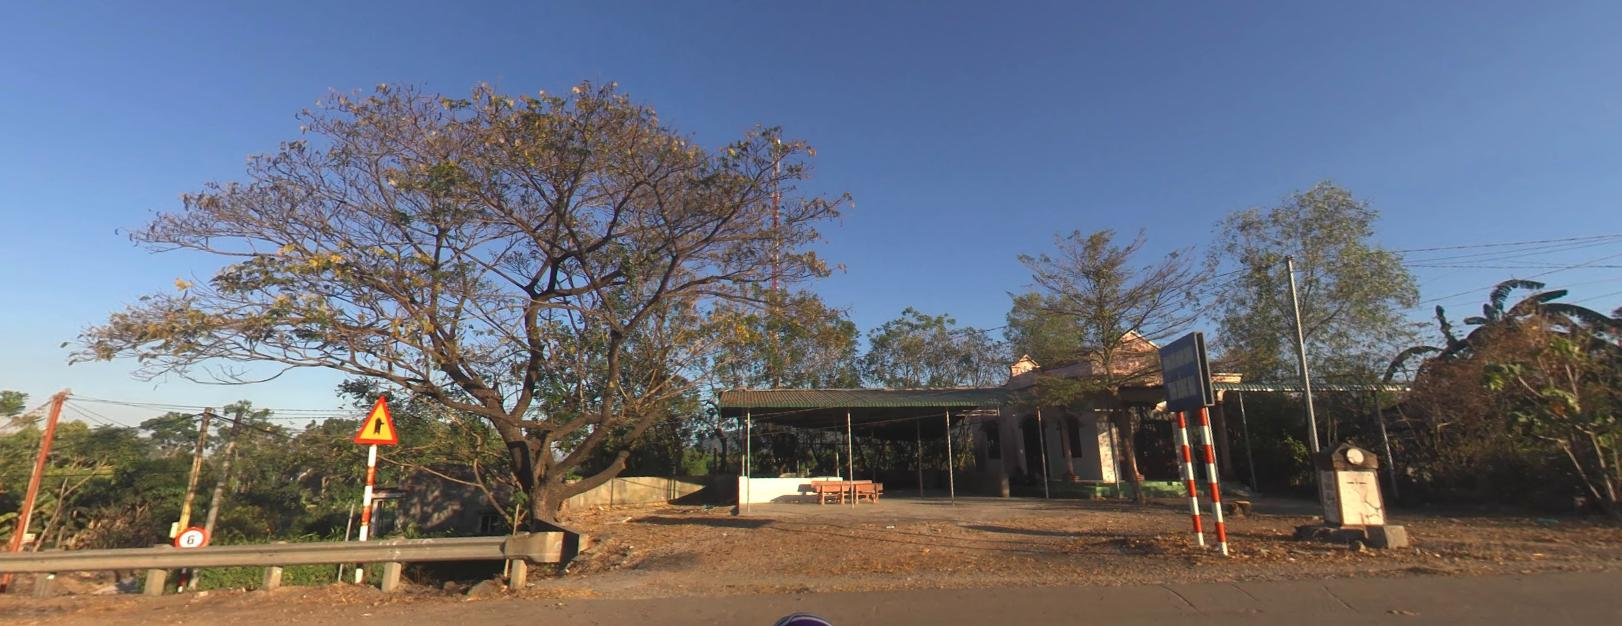Cam con lai: (174, 525, 208, 550), (174, 525, 207, 549)
Nguy hiem: (352, 393, 399, 444), (353, 394, 400, 444)
